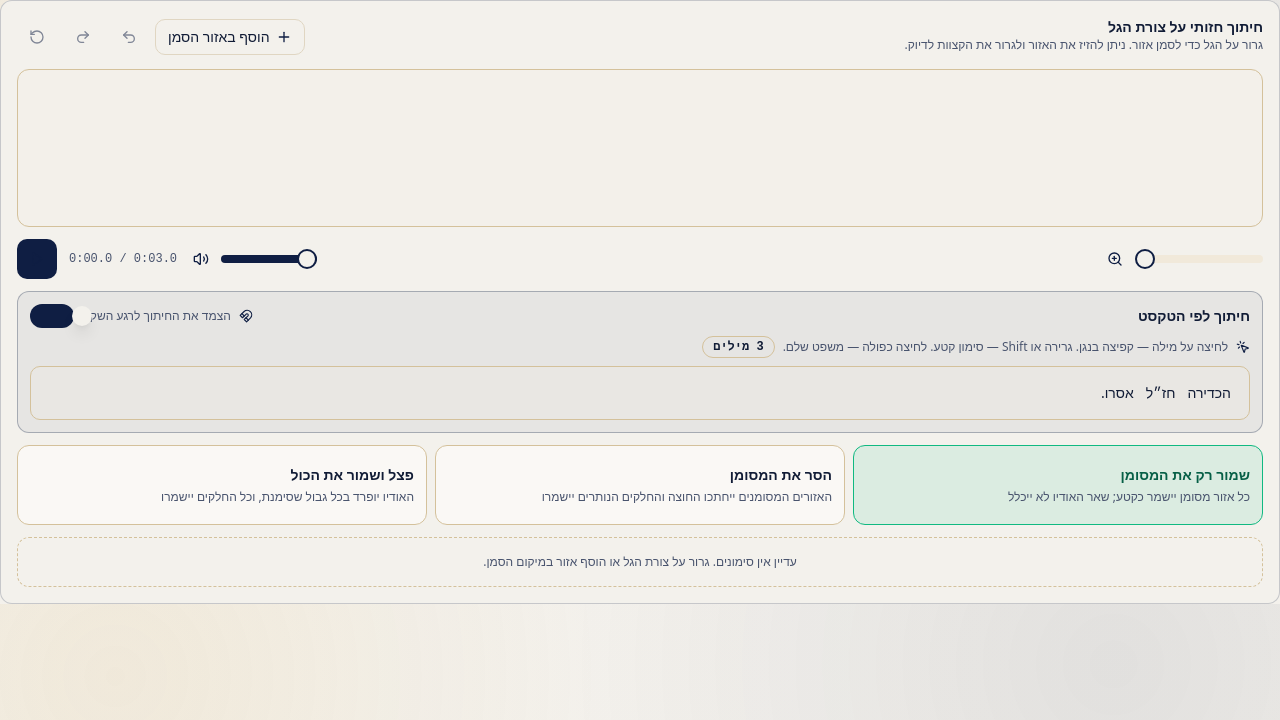
Scenario: סימון משפט הופך לאזור חיתוך › המשתמש מקבל הודעה בכמה הוזזו הקצוות
This screenshot has width=1280, height=720.
Expected: the switch with test id "snap-toggle" is enabled, [30, 304, 74, 328]
Press the mouse on the button "הכדירה" at x=1209, y=393, box [1183, 381, 1235, 405]
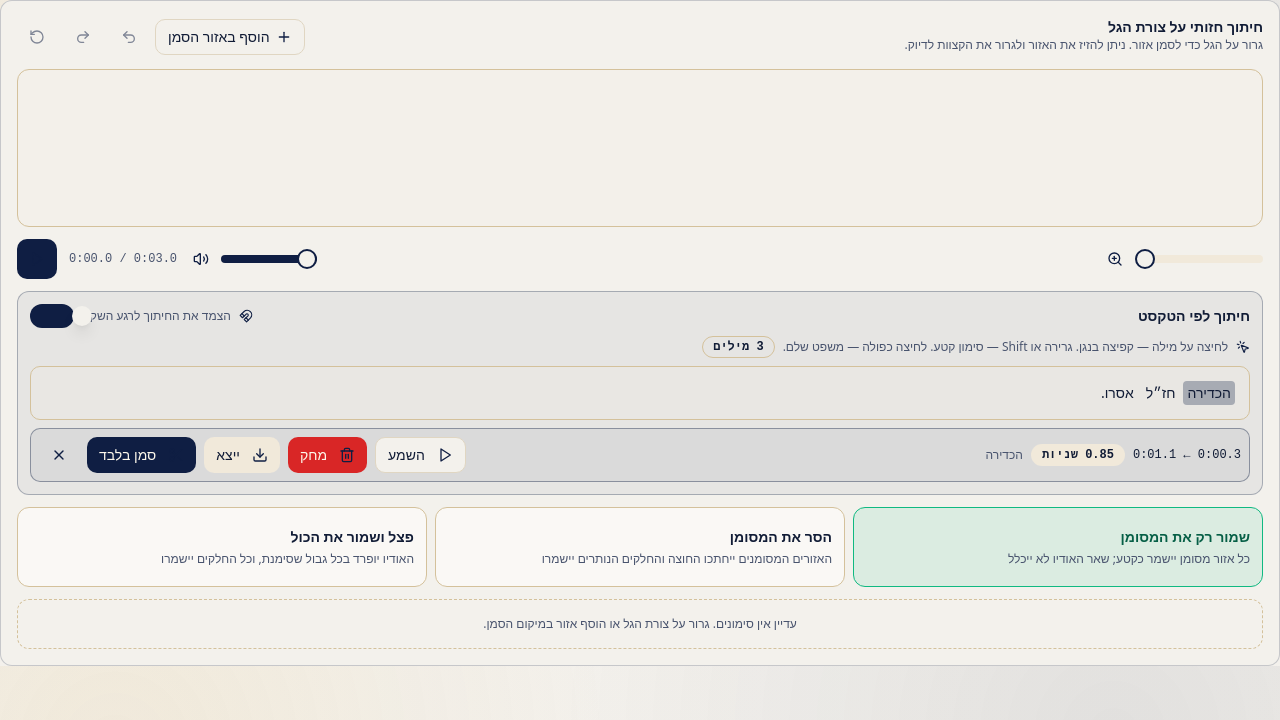
Click the button with test id "mark-selection" at x=142, y=455, box [87, 437, 196, 473]
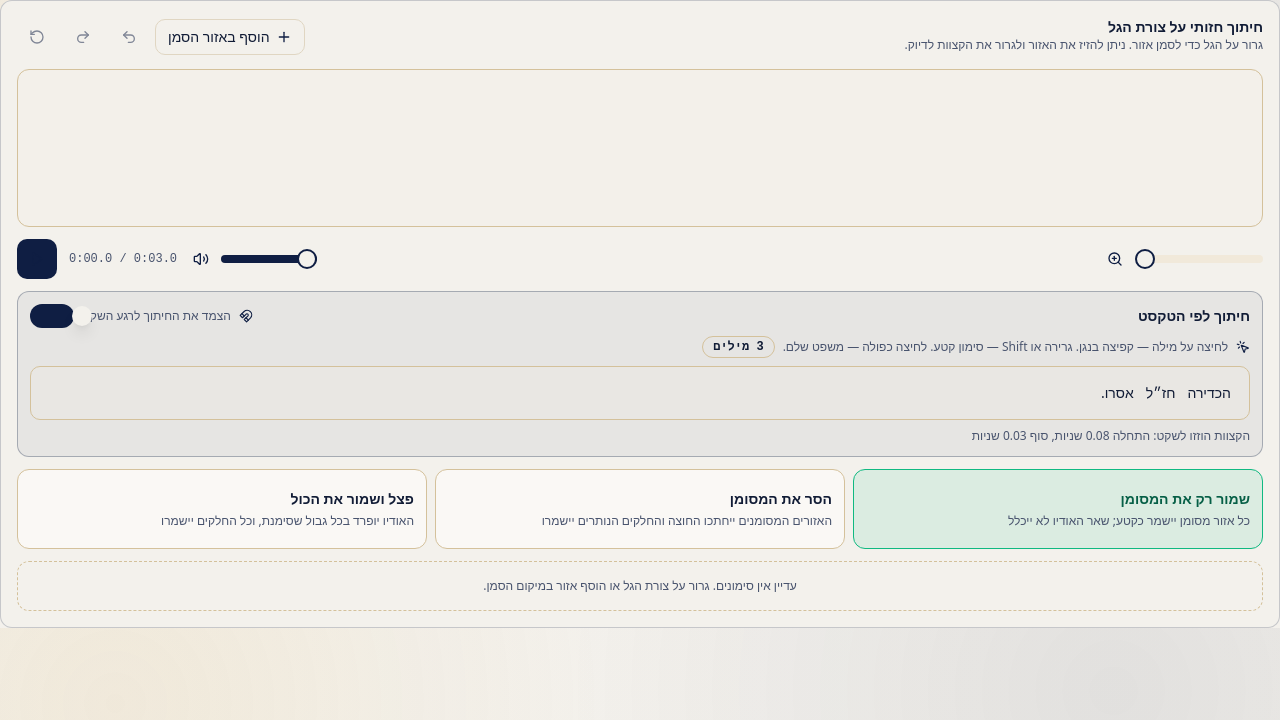
Expected: the text with test id "snap-note" shows "הוזזו לשקט", [972, 427, 1250, 444]
